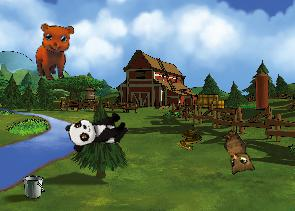bear: (33, 21, 78, 82)
owl: (210, 127, 259, 181)
panda: (64, 107, 130, 154)
